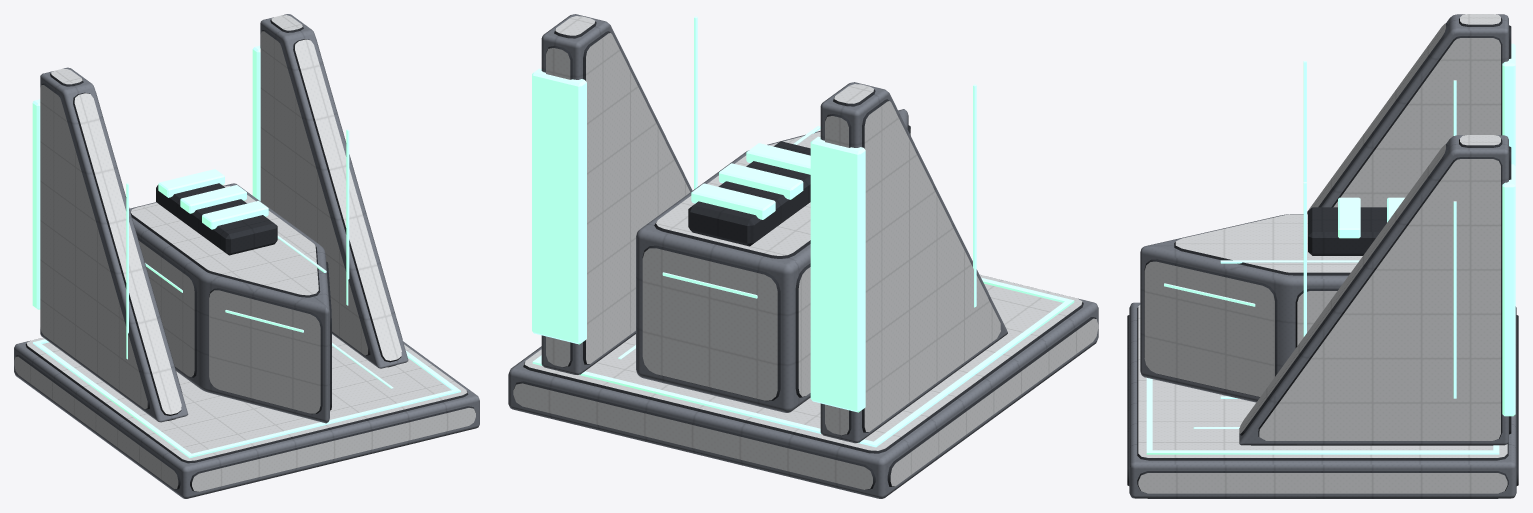
The model's file is R4X_MobilityBooster.glb.
The picture shows the model from 3 angles, left to right: view 1: azimuth 30°, elevation 25°; view 2: azimuth 150°, elevation 25°; view 3: azimuth 270°, elevation 25°; orthographic projection. The views are drawn at different scales.
Visible parts, largest first — view 1: R4X_MobilityBooster_Body; view 2: R4X_MobilityBooster_Body; view 3: R4X_MobilityBooster_Body.
Boxes of the visible parts, left/top/right/bottom form: R4X_MobilityBooster_Body: left=14, top=14, right=479, bottom=498; R4X_MobilityBooster_Body: left=508, top=14, right=1098, bottom=498; R4X_MobilityBooster_Body: left=1127, top=14, right=1518, bottom=498.
Size of the model in its own units: 0.52 by 0.5 by 0.52.
4 materials, 3 textured.
